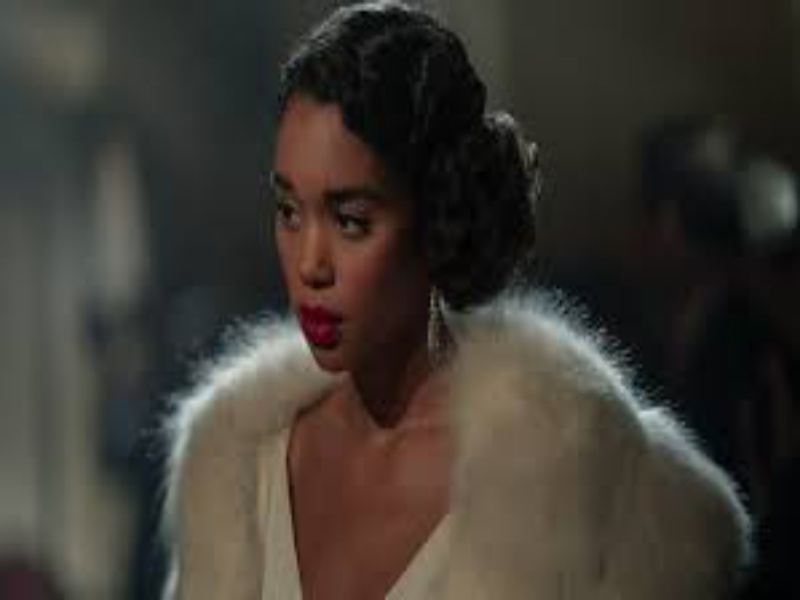TsisyArotava: (249, 66, 423, 386)
